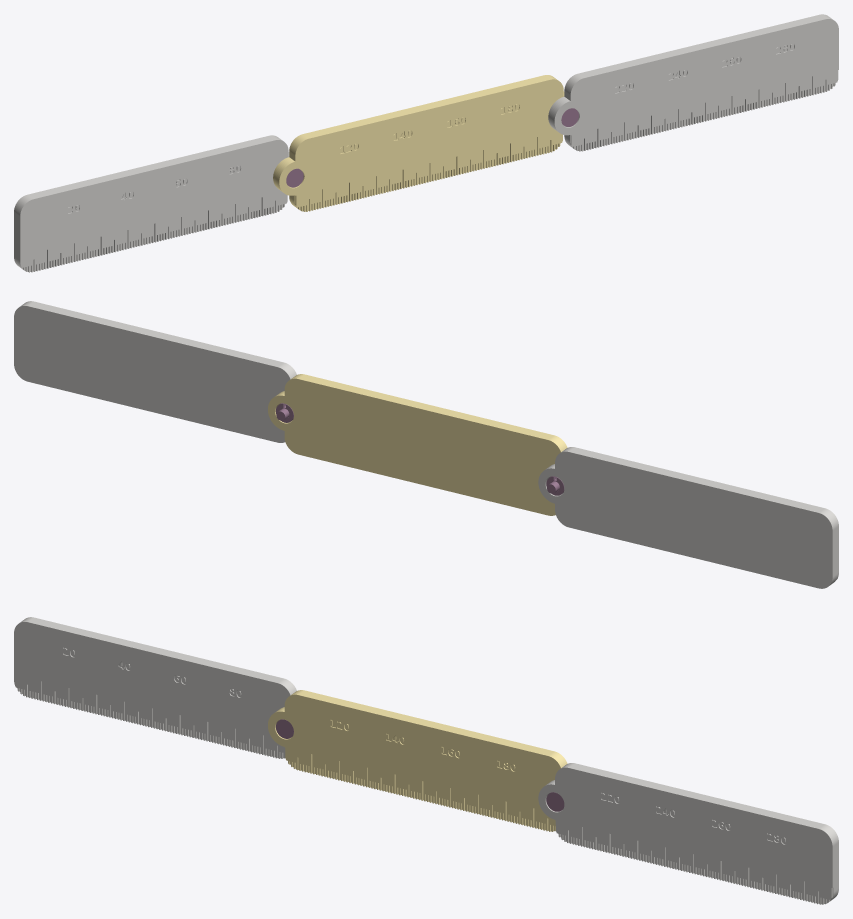
Rendered from rally-rule-300mm.glb.
3 views of the same model, one above another, from view 1: azimuth 30°, elevation 25°; view 2: azimuth 150°, elevation 25°; view 3: azimuth 330°, elevation 25° (orthographic). The views are drawn at different scales.
Visible parts, largest first — view 1: rally-rule-link-3__3, rally-rule-link-2__2, rally-rule-link-1__1; view 2: rally-rule-link-1__1, rally-rule-link-2__2, rally-rule-link-3__3; view 3: rally-rule-link-3__3, rally-rule-link-2__2, rally-rule-link-1__1.
Boxes of the visible parts, x1,y1,x2,y2 form: rally-rule-link-3__3: (548,14,838,151); rally-rule-link-2__2: (273,75,564,211); rally-rule-link-1__1: (14,135,289,272); rally-rule-link-1__1: (538,447,838,588); rally-rule-link-2__2: (268,374,567,515); rally-rule-link-3__3: (14,301,296,442); rally-rule-link-3__3: (538,763,838,904); rally-rule-link-2__2: (268,690,567,831); rally-rule-link-1__1: (14,617,296,758).
Size of the model in its own units: 0.3 by 0.026 by 0.0151.
